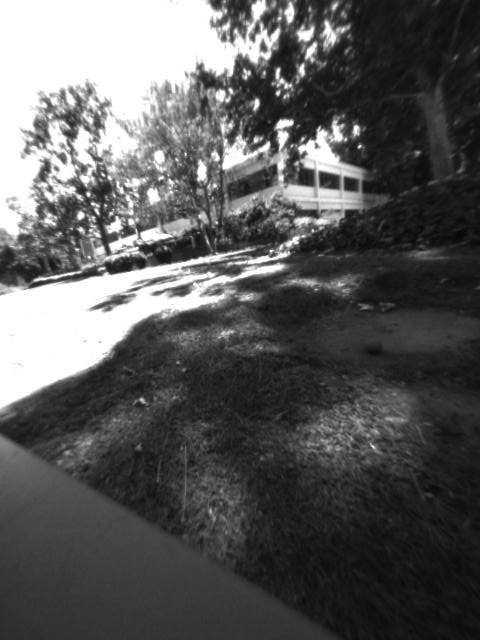dogtoy: (359, 332, 392, 359)
